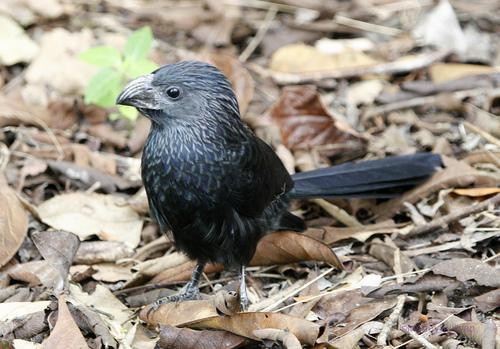004.Groove_billed_Ani: (116, 58, 460, 310)
